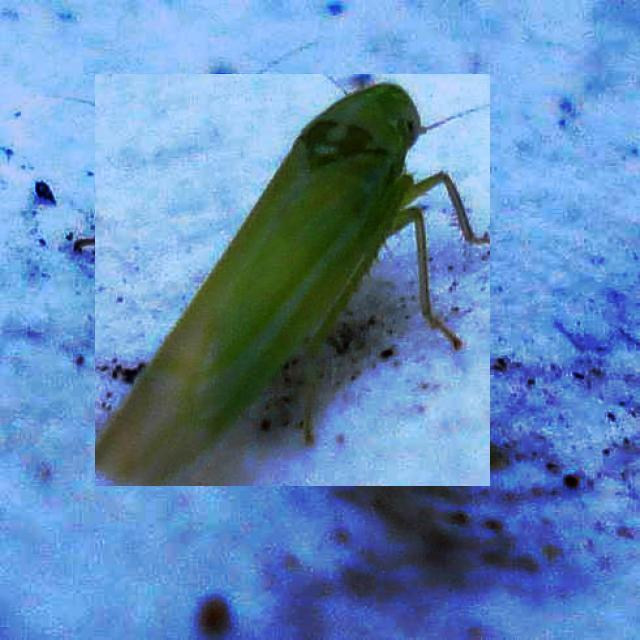green-leafhopper: (95, 74, 490, 486)
